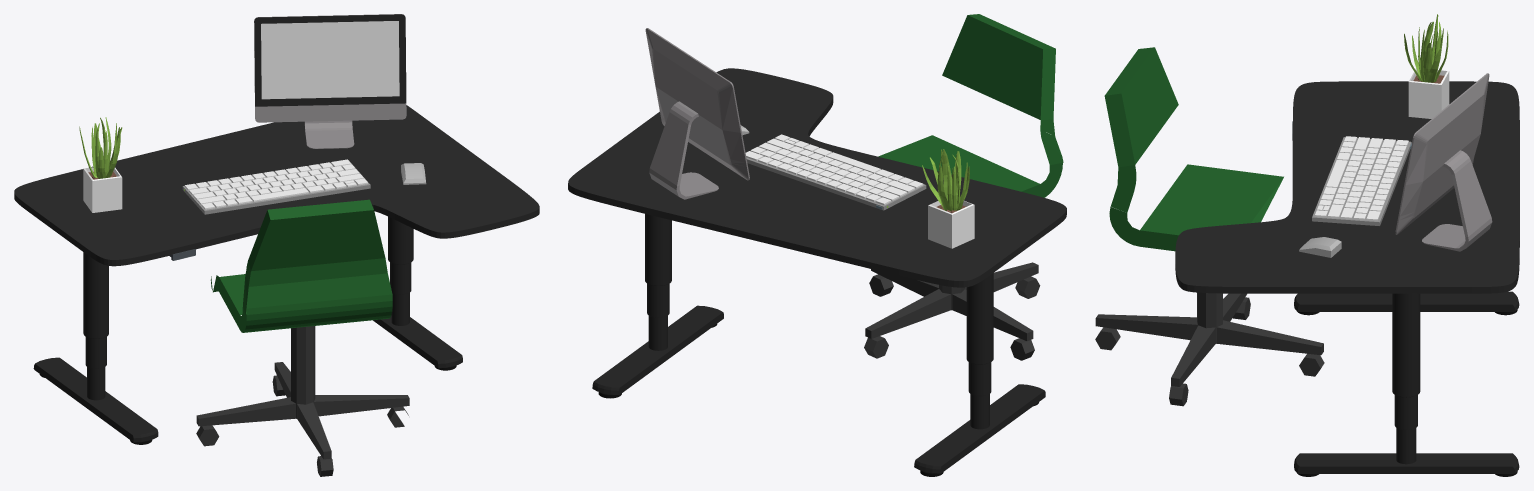
The model's file is office.glb.
The picture shows the model from 3 angles, left to right: view 1: azimuth 30°, elevation 25°; view 2: azimuth 150°, elevation 25°; view 3: azimuth 270°, elevation 25°; orthographic projection. The views are drawn at different scales.
Visible parts, largest first — view 1: Desk, Chair, iMac, keyboard, plant; view 2: Desk, Chair, iMac, keyboard, plant; view 3: Desk, Chair, iMac, keyboard, plant, Comp_Mouse.
Part boxes in pixels (<box>): Desk: <box>14,105,539,444</box>; Chair: <box>196,199,409,476</box>; iMac: <box>254,14,406,148</box>; keyboard: <box>182,159,370,214</box>; plant: <box>79,117,122,212</box>; Desk: <box>568,68,1066,476</box>; Chair: <box>864,14,1063,360</box>; iMac: <box>645,28,749,199</box>; keyboard: <box>745,134,926,210</box>; plant: <box>922,149,974,248</box>; Desk: <box>1175,81,1519,476</box>; Chair: <box>1095,47,1324,406</box>; iMac: <box>1395,73,1492,251</box>; keyboard: <box>1312,136,1411,225</box>; plant: <box>1404,14,1449,118</box>; Comp_Mouse: <box>1299,237,1341,257</box>.
Bounding box in the file's own units: 2 × 1.55 × 1.75.
